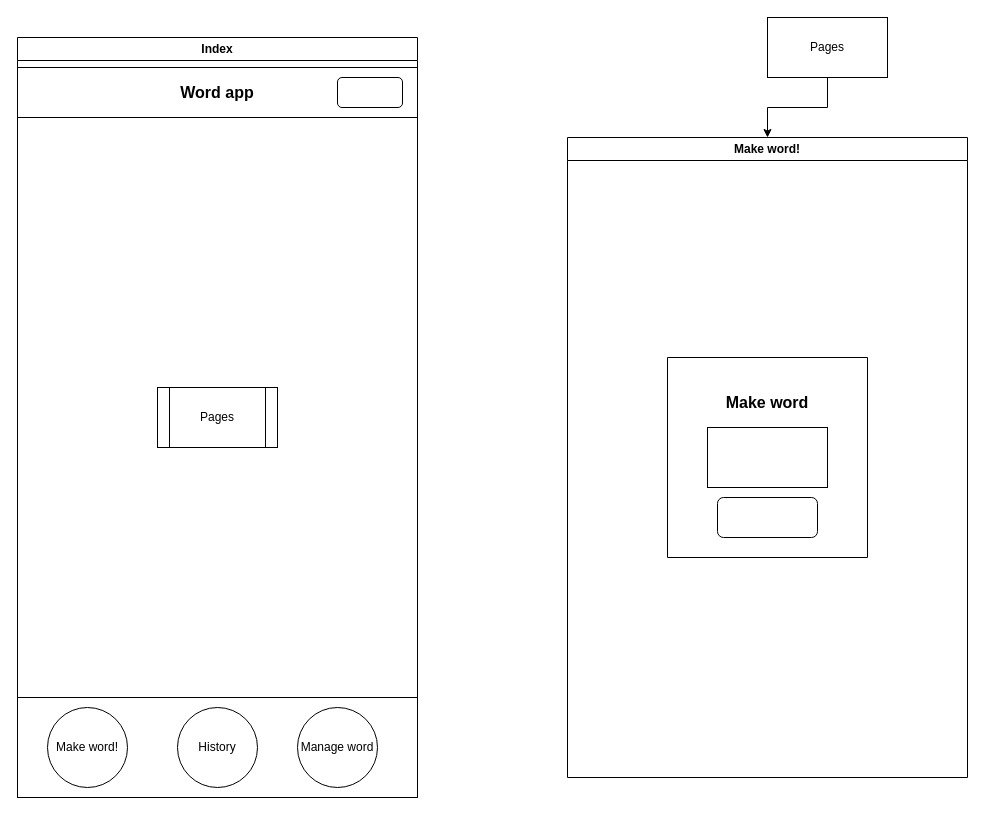
Image size: 985x815. Some labels were removed from this diagram. The shapes that lost their labels are listed below. From the top down, each one's centre as x and y in pixels, then its label:
(369,92): Account
(767,517): Next word!
